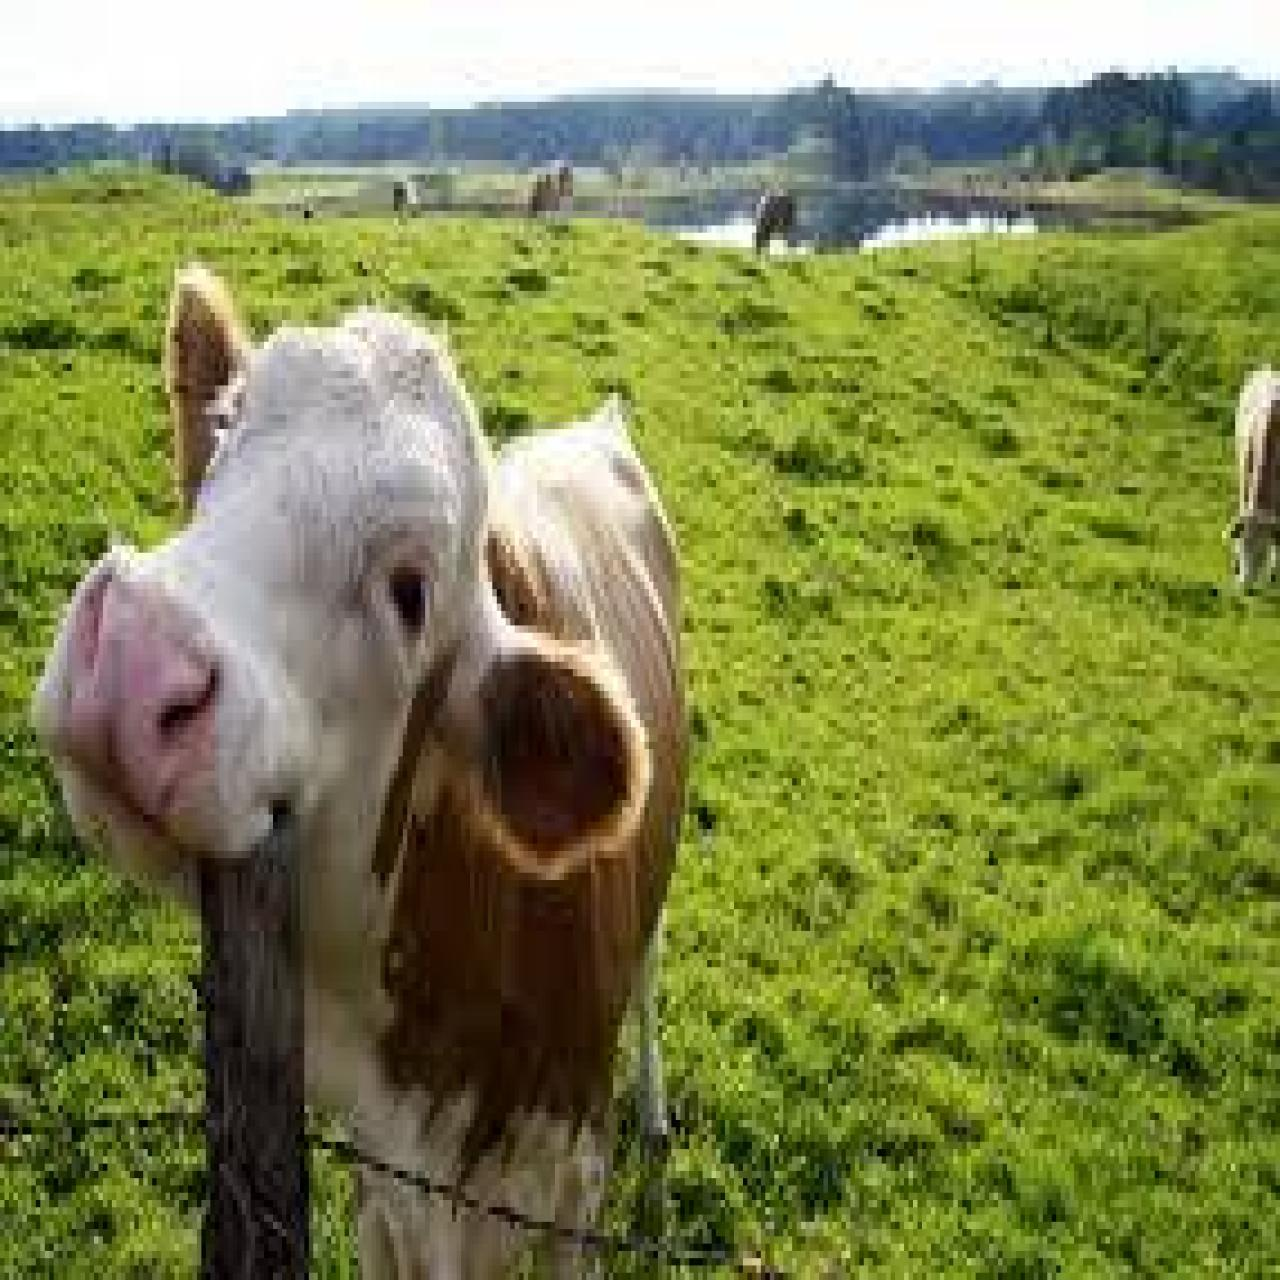cow: (27, 254, 685, 1280), (1226, 356, 1280, 604), (750, 189, 803, 268), (524, 159, 577, 225)
